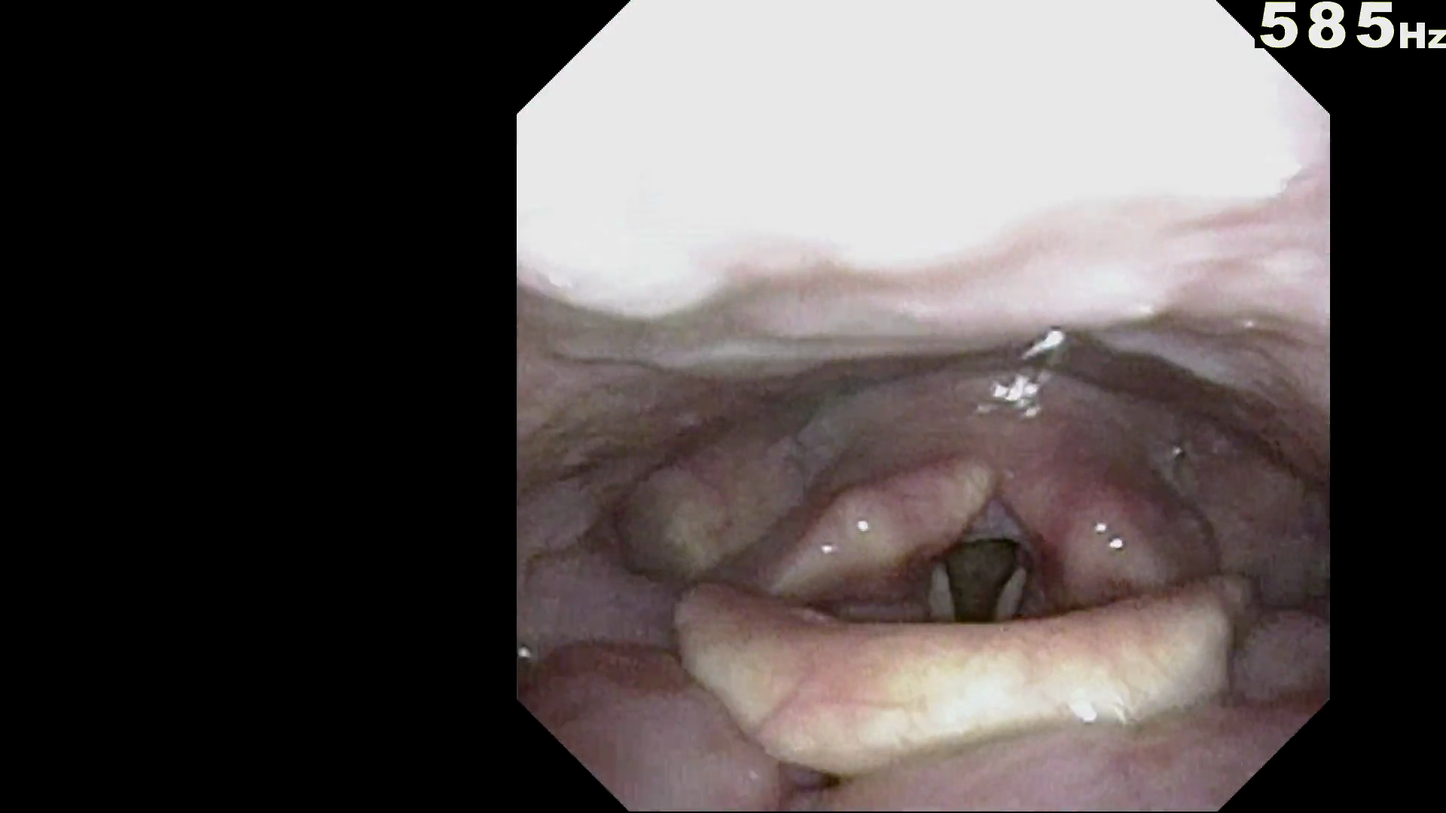epiglottis: (663, 598, 1205, 738)
trachea: (910, 533, 1039, 627)
